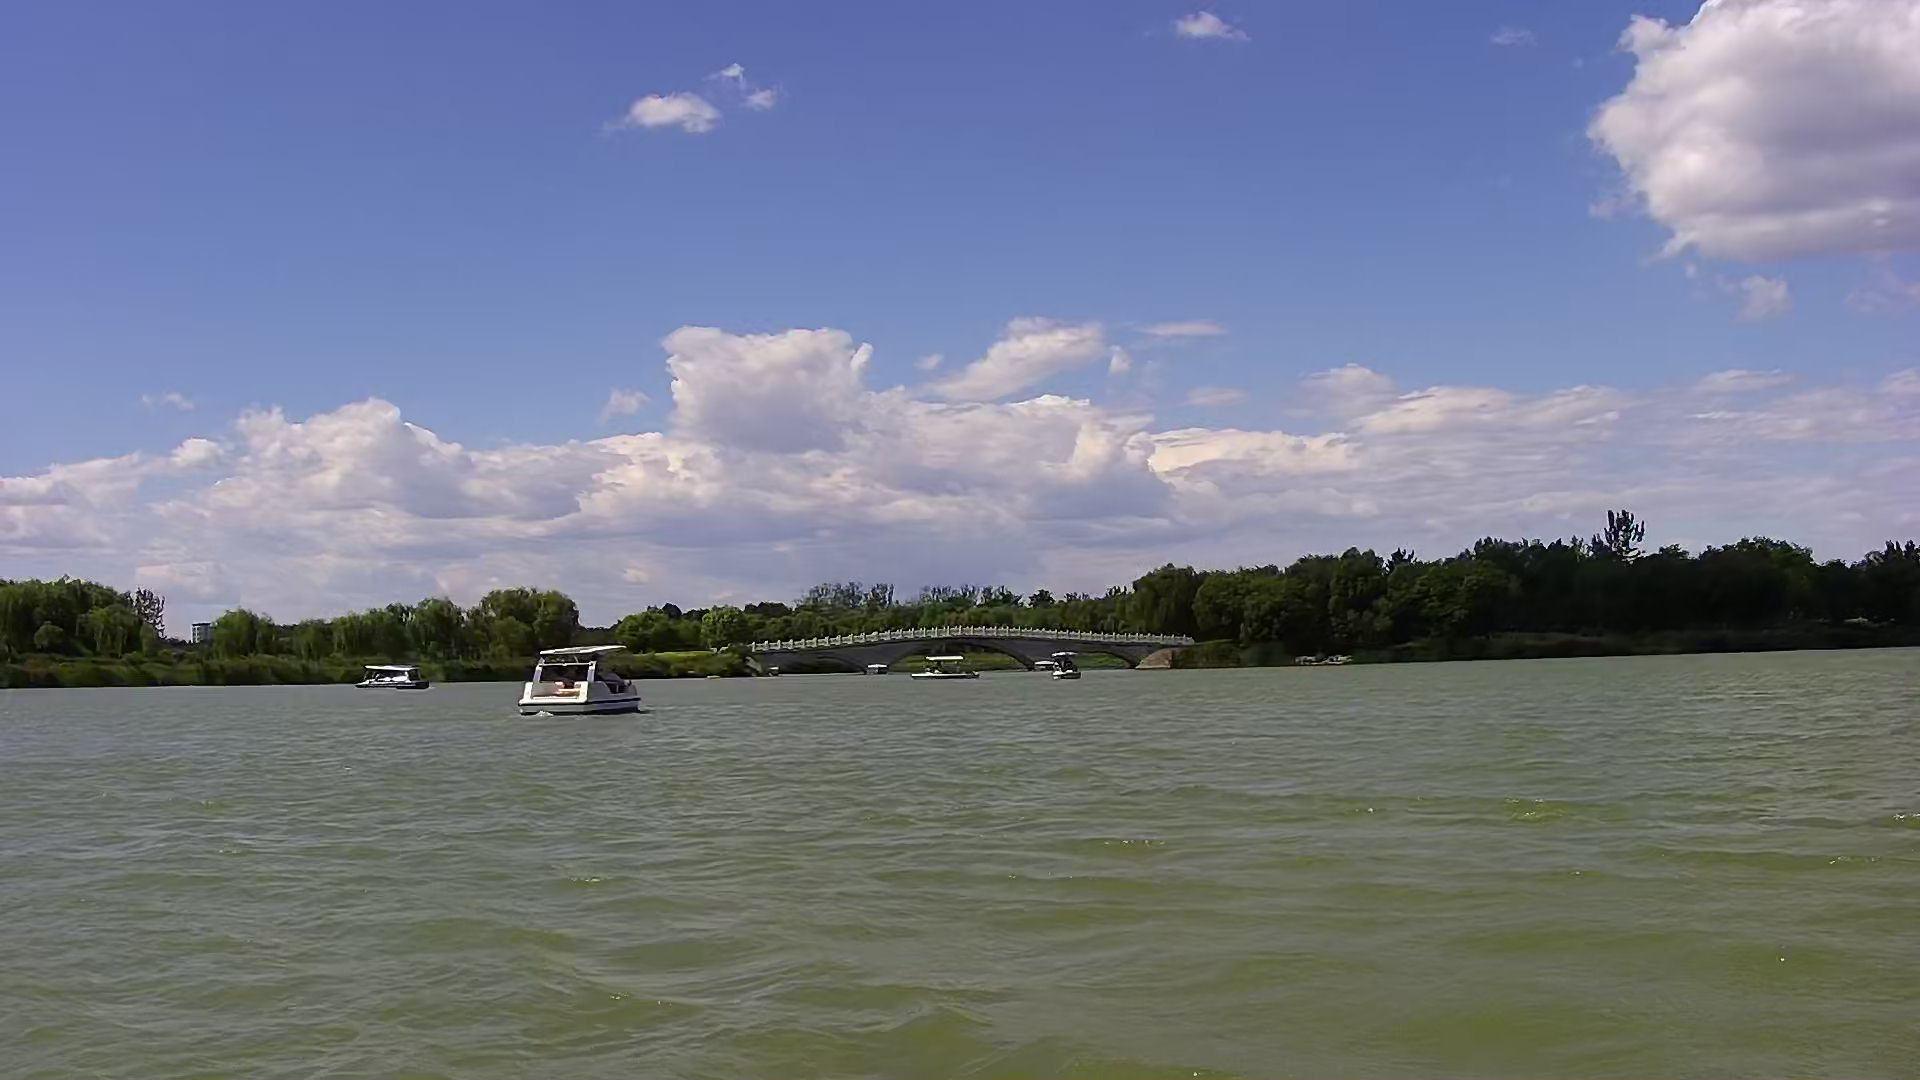boat: (517, 630, 642, 717), (906, 645, 992, 682), (351, 663, 430, 698), (1040, 649, 1088, 687)
bridge: (732, 617, 1205, 676)
